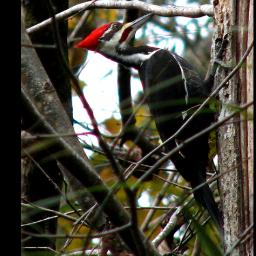Woodpecker: (74, 11, 233, 235)
